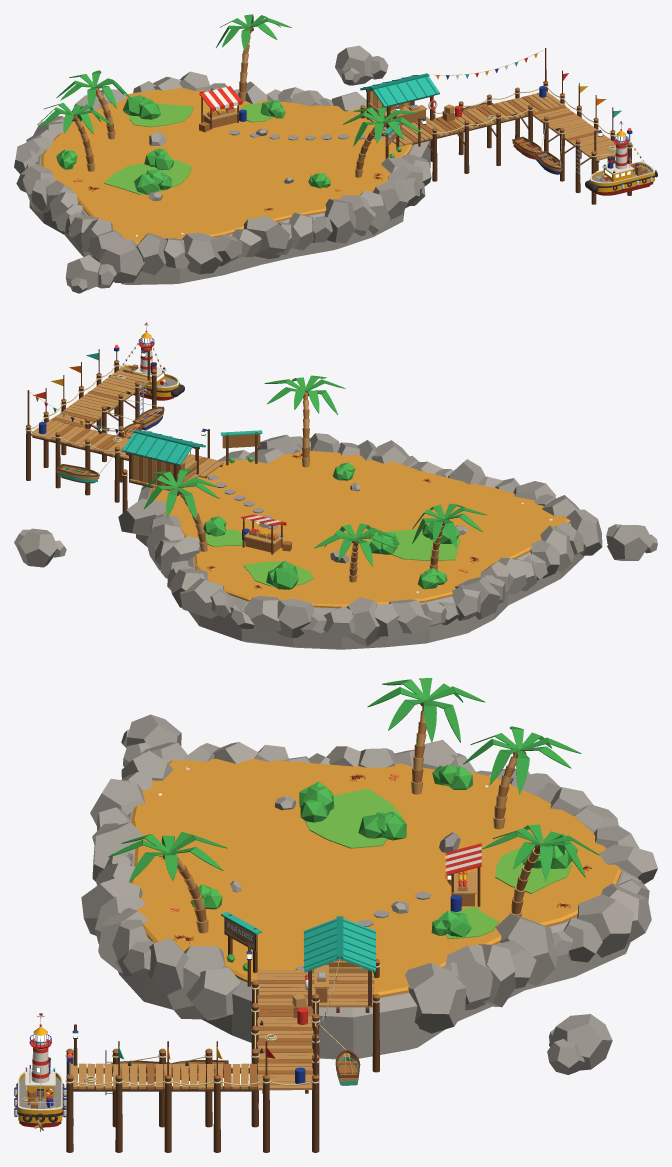
Rendered from harbor-island.glb.
The picture shows the model from 3 angles, top to bottom: view 1: azimuth 30°, elevation 25°; view 2: azimuth 150°, elevation 25°; view 3: azimuth 270°, elevation 25°; orthographic projection. The views are drawn at different scales.
Parts seen in each view (by area): view 1: sand_top, cliff, pier, boulder_17, boulder_14, grass_patch_0, boulder_11, hut_roof_s, boulder_7, stack_rock_1_0, boulder_16, boulder_4 (+20 smaller); view 2: sand_top, cliff, pier, grass_patch_0, stack_rock_0_0, hut_roof_n, stack_rock_1_0, boulder_35, boulder_48, boulder_32, boulder_39, boulder_17 (+20 smaller); view 3: sand_top, cliff, pier, boulder_48, grass_patch_0, boulder_40, boulder_43, stack_rock_1_0, boulder_0, boulder_1, boulder_46, boulder_2 (+24 smaller).
Boxes of the visible parts, <box> form: sand_top: <box>41,88,412,244</box>; cliff: <box>29,121,430,284</box>; pier: <box>360,83,631,204</box>; boulder_17: <box>99,239,144,282</box>; boulder_14: <box>182,232,222,274</box>; grass_patch_0: <box>103,160,192,194</box>; boulder_11: <box>243,216,290,258</box>; hut_roof_s: <box>373,76,439,107</box>; boulder_7: <box>324,199,355,243</box>; stack_rock_1_0: <box>335,45,373,85</box>; boulder_16: <box>136,233,166,275</box>; boulder_4: <box>373,181,408,219</box>; sand_top: <box>149,451,570,608</box>; cliff: <box>136,486,584,649</box>; pier: <box>26,362,190,512</box>; grass_patch_0: <box>368,529,460,560</box>; stack_rock_0_0: <box>607,525,650,560</box>; hut_roof_n: <box>122,433,192,465</box>; stack_rock_1_0: <box>17,528,58,567</box>; boulder_35: <box>276,599,314,638</box>; boulder_48: <box>118,498,166,535</box>; boulder_32: <box>347,597,380,646</box>; boulder_39: <box>180,578,224,618</box>; boulder_17: <box>566,509,602,555</box>; sand_top: <box>130,758,621,997</box>; cliff: <box>118,811,639,1059</box>; pier: <box>66,962,379,1152</box>; boulder_48: <box>405,963,466,1033</box>; grass_patch_0: <box>304,788,401,848</box>; boulder_40: <box>577,894,633,957</box>; boulder_43: <box>495,913,556,985</box>; stack_rock_1_0: <box>549,1014,612,1070</box>; boulder_0: <box>186,967,240,1020</box>; boulder_1: <box>167,946,225,1019</box>; boulder_46: <box>445,945,492,1010</box>; boulder_2: <box>147,937,188,995</box>.
Size of the model in its own units: 57.03 by 11.12 by 39.26.
Materials: 52 (1 with a texture image).
